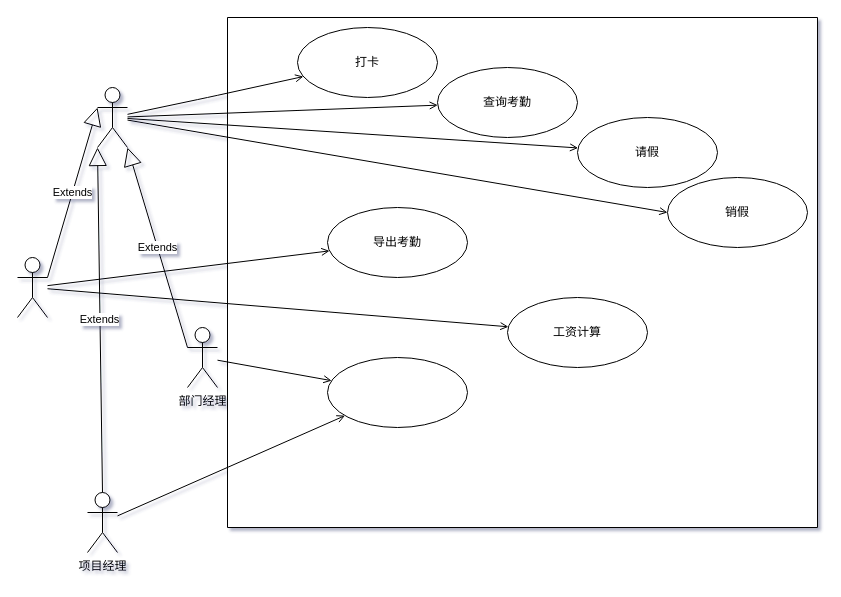
Some shapes in this 841 by 597 pixel diagram are drawn without their labels. The centre of each missing label's shape, as x and y in pixels:
"人力" goes at [32,287].
"员工" goes at [112,117].
"审批工时" goes at [397,392].
